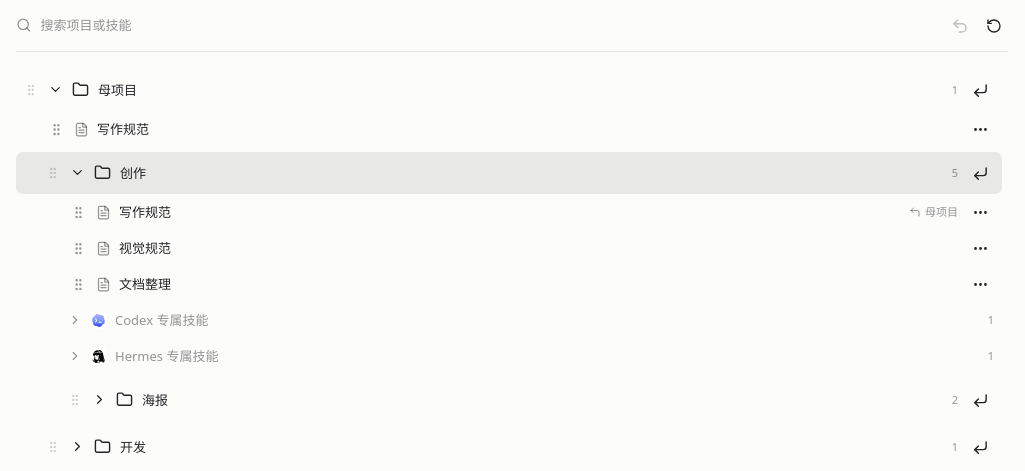
ProjectSkillTree › keeps the last good tree after a refresh error and recovers without resetting the search
The image size is (1025, 471).
In the field labelled "搜索项目或技能": (477, 25) [41,5,914,46], type "视觉规范"
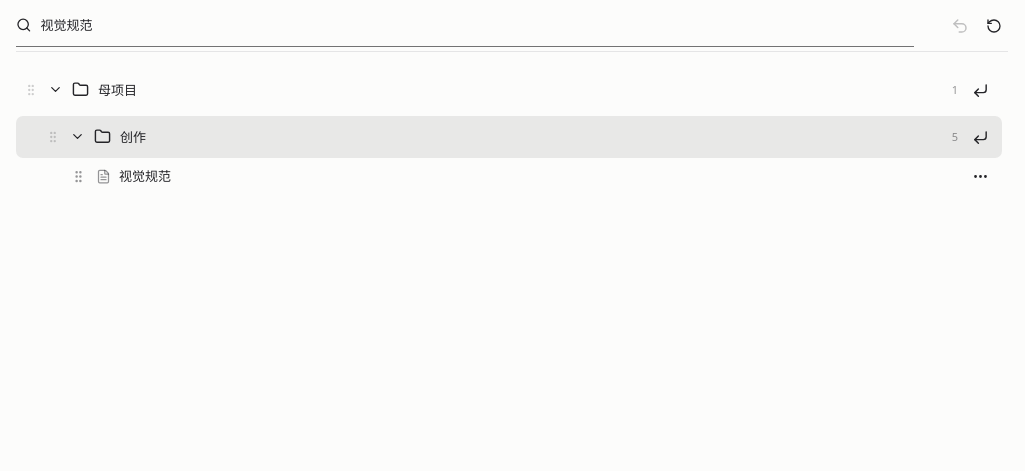
Click the button named "刷新技能": click(994, 26) [980,12,1008,40]
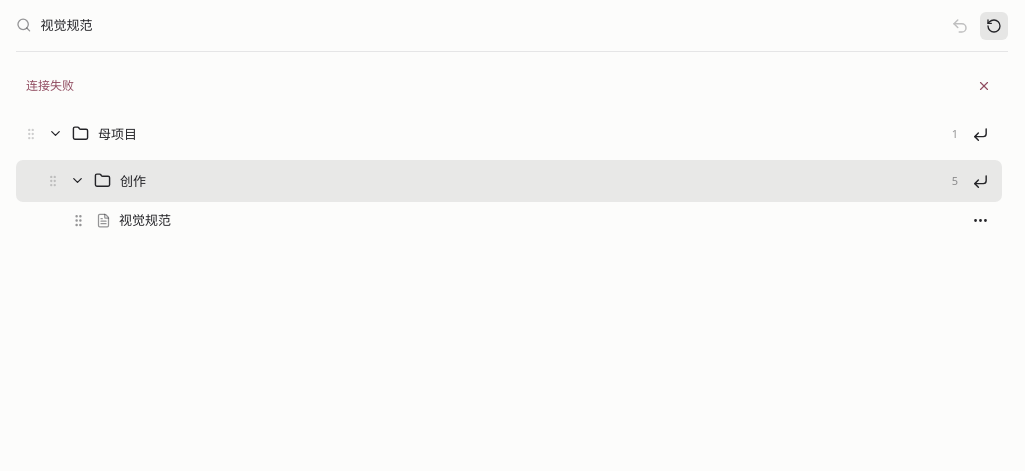
Now the message reads "连接失败", box [26,77,74,94]
Click the button named "刷新技能": click(994, 26) [980,12,1008,40]
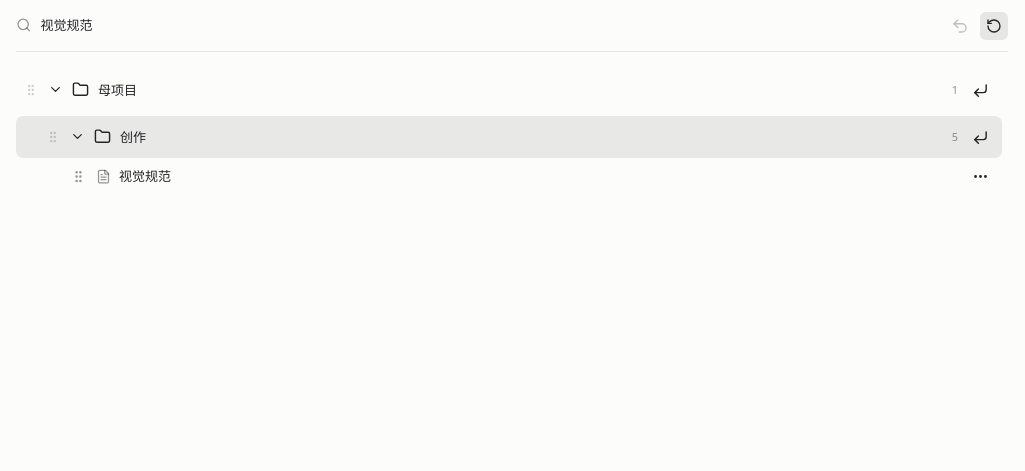
Now the message "连接失败" is gone
